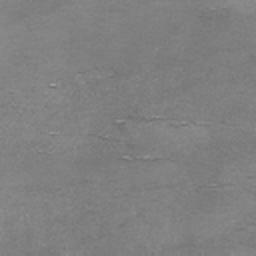Finishing roll printing: (128, 114, 189, 129), (120, 155, 168, 161), (197, 122, 215, 128), (36, 148, 46, 154), (114, 119, 124, 124), (50, 82, 58, 88), (50, 132, 59, 136)
